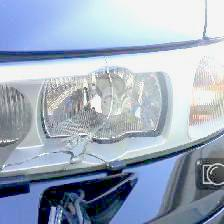head_lamp: (29, 81, 116, 179)
